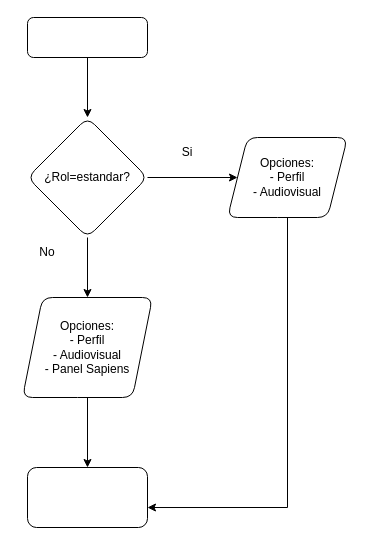
The diagram is 365 pixels wide and 545 high, and some of its shapes have lost their labels. Each missing label, with the box of its shape:
Fin: (26, 466, 148, 528)
Menu: (26, 16, 148, 58)
